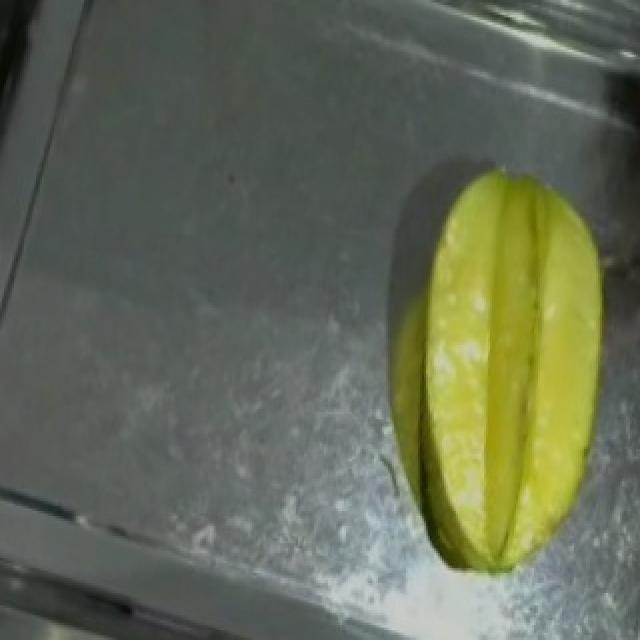fruit: (370, 139, 640, 508)
